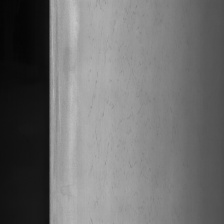silk_spot: (85, 0, 146, 205)
